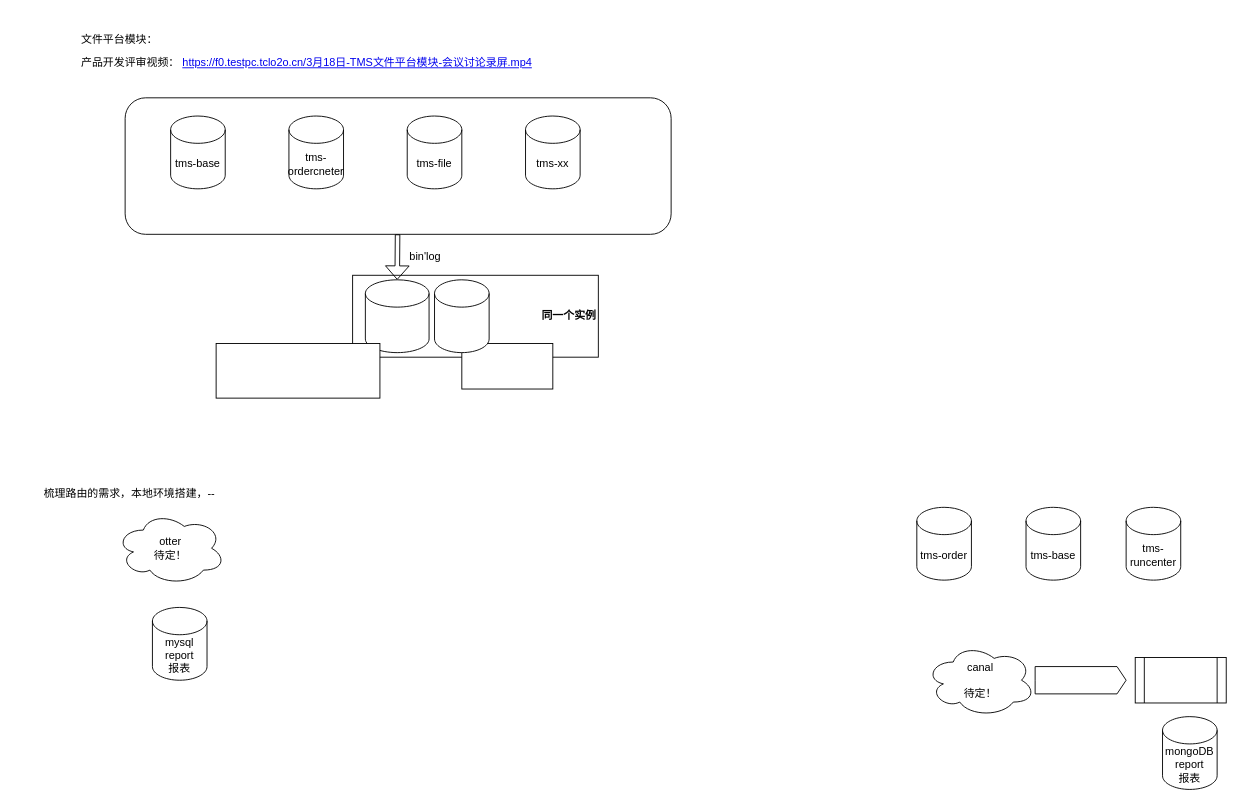
Some shapes in this 1242 by 805 pixel diagram are drawn without their labels. Each missing label, with the centre of its shape:
"kafka MQ" belongs at point (1080, 680).
"tms-mq-jvm" belongs at point (1180, 680).
"tms-report-write" belongs at point (461, 316).
"中间库 可写的 中间表" belongs at point (507, 366).
"只读库 所有的tms的业务表 主表： tms_order_main" belongs at point (297, 370).
"示例：tms-report-readonly" belongs at point (396, 316).
